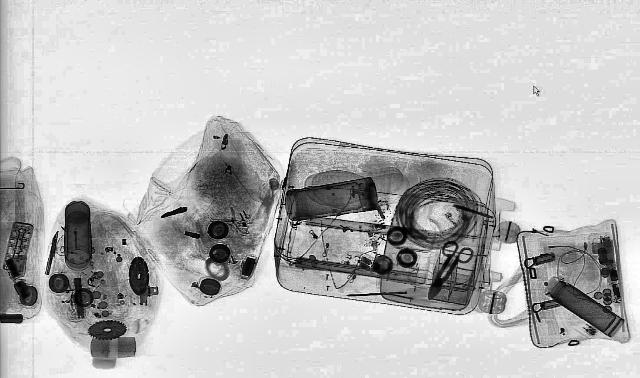Scissors: (412, 240, 478, 303)
